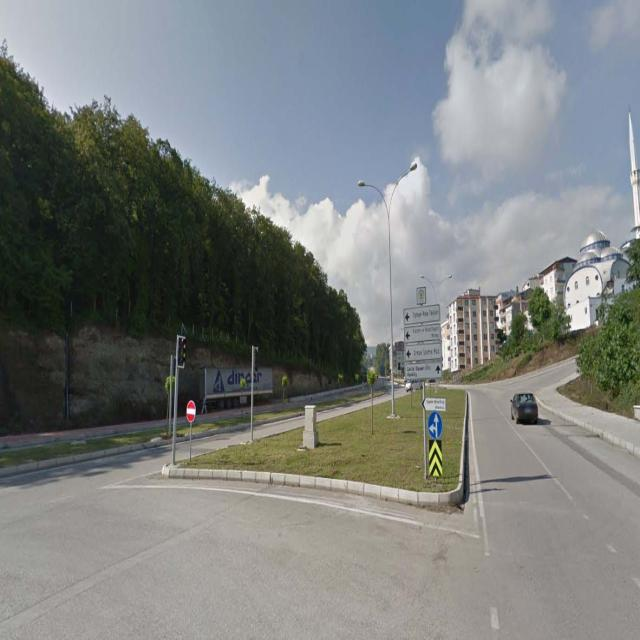girisyok: (186, 400, 196, 423)
ilerisol: (428, 411, 442, 439)
